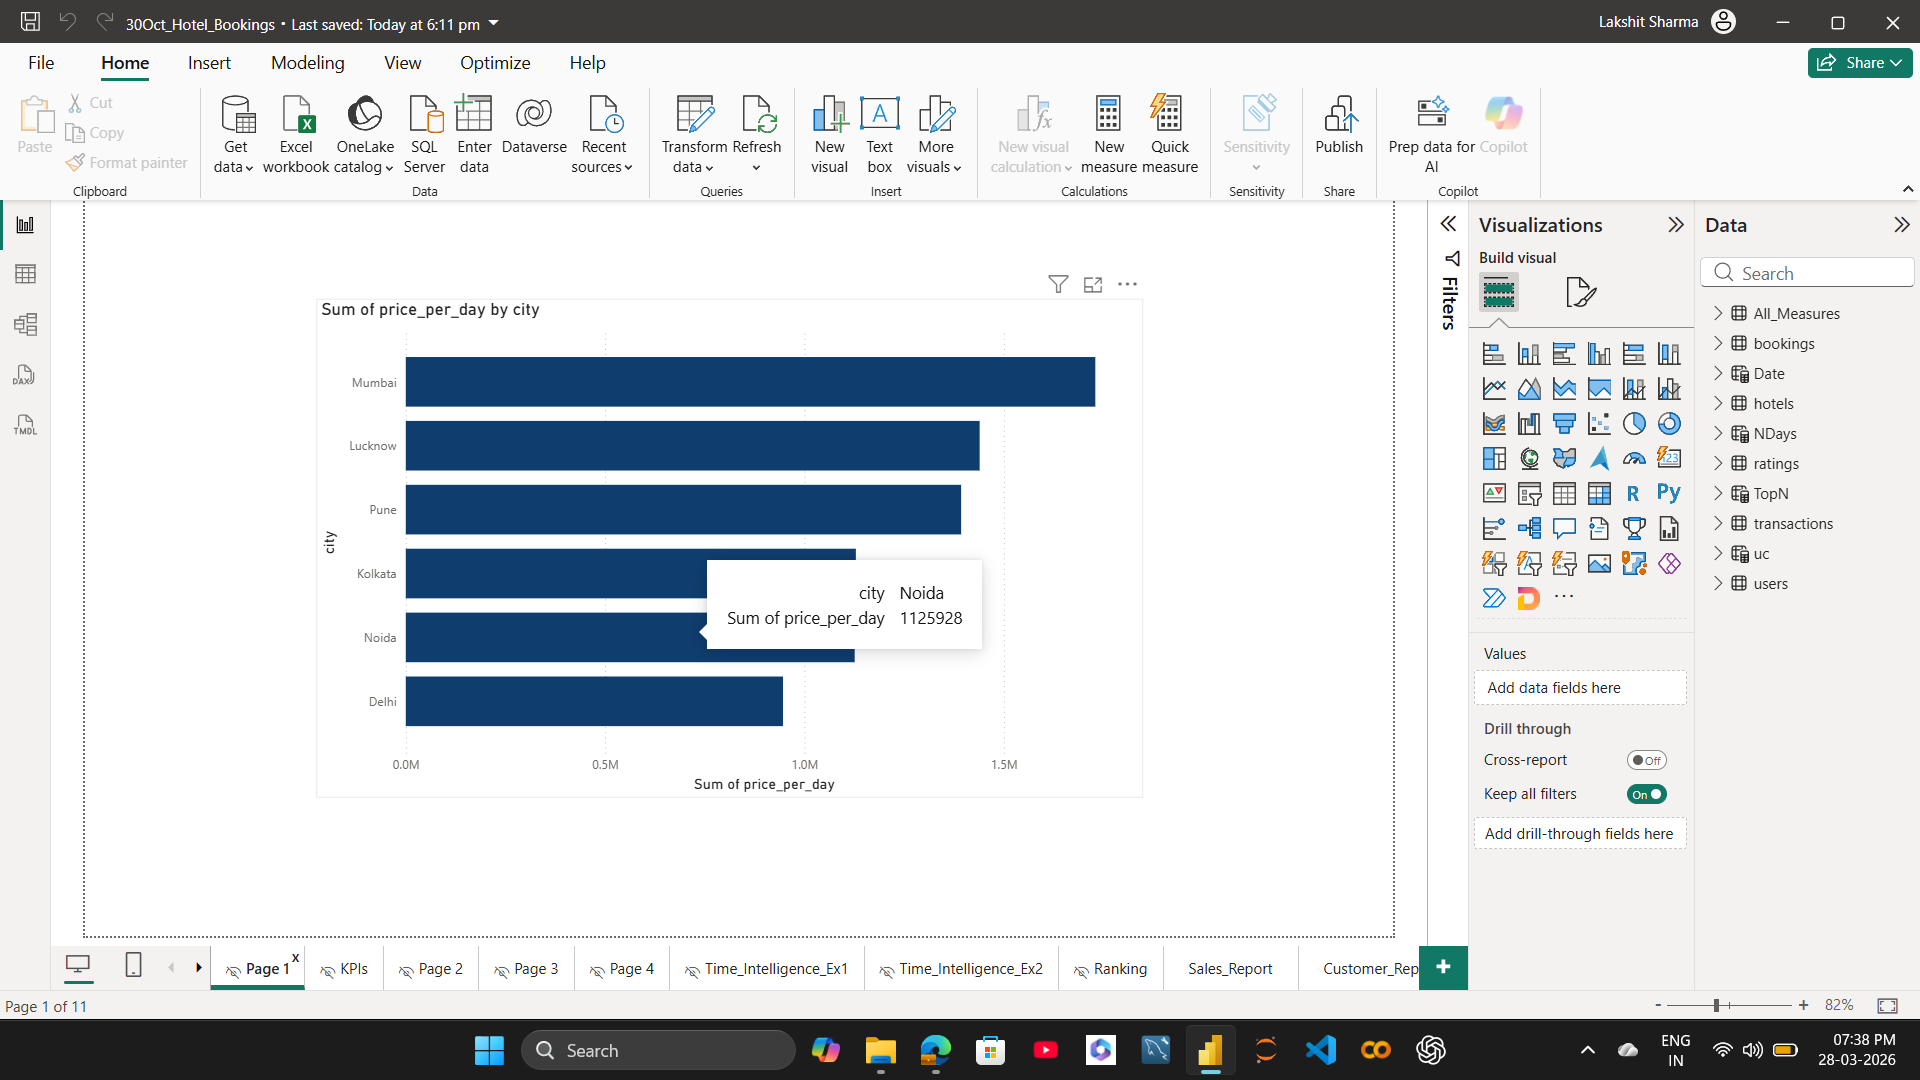

The dashboard page shown, as its layout file describes it:
{"tool":"powerbi","page":{"name":"Page 1","canvas":[1280,720],"ordinal":0},"visuals":[{"type":"barChart","fields":{"Category":["hotels.city"],"Y":["Sum(bookings.price_per_day)"]},"box":[226.8,96.4,808.8,487.6],"z":0}]}

Visuals, with their boxes on the page's 1280x720 design canvas (x1, y1, x2, y2). These are canvas units, not pixel positions in the 1920x1080 screenshot, which may show the page scaled, cropped or inside an application window:
barChart - hotels.city x Sum(bookings.price_per_day): bbox=[227, 96, 1036, 584]
